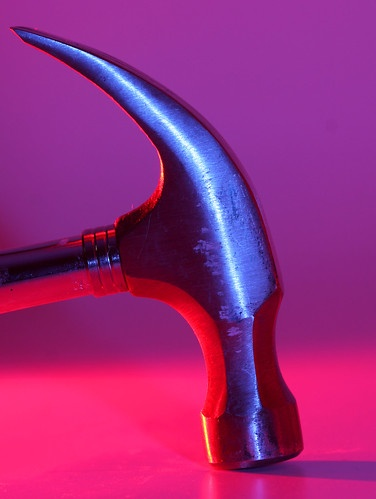hammer: (5, 20, 316, 475)
